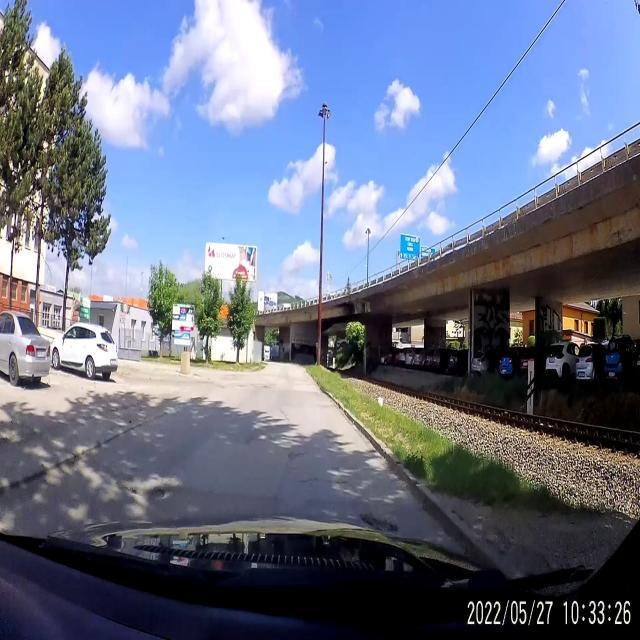Pothole: (358, 508, 398, 536), (144, 483, 168, 503), (286, 449, 305, 462), (335, 478, 348, 488), (330, 464, 342, 474), (130, 486, 138, 495)
